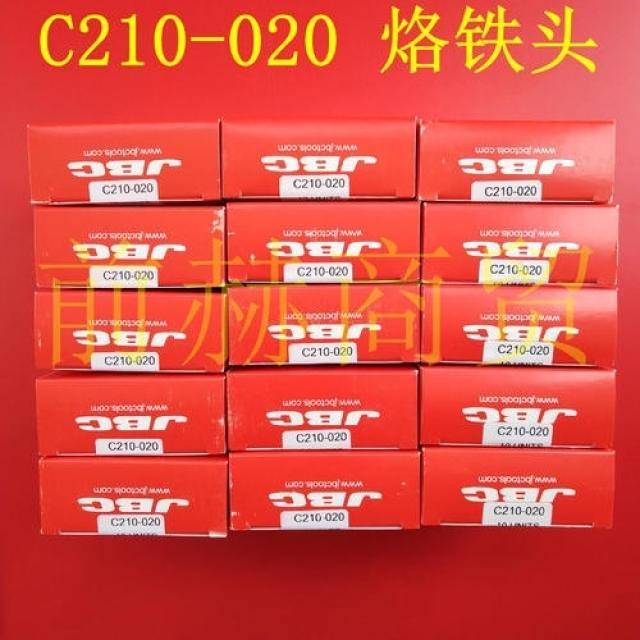box: (227, 362, 422, 454), (421, 362, 617, 452), (416, 116, 616, 204), (33, 285, 227, 374), (419, 200, 618, 285), (28, 115, 221, 202), (220, 114, 419, 198), (420, 284, 620, 367), (36, 370, 225, 457), (420, 447, 618, 529), (225, 283, 421, 365), (33, 206, 225, 288), (38, 456, 228, 538), (225, 204, 420, 283), (228, 453, 421, 532)
